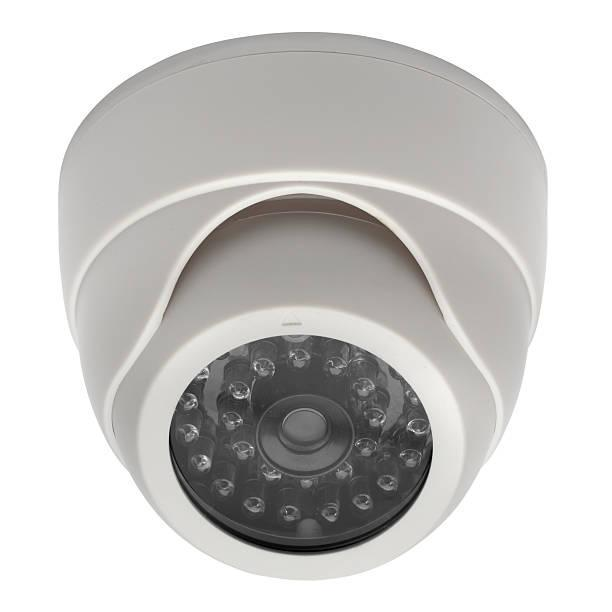camera: (27, 25, 555, 585)
